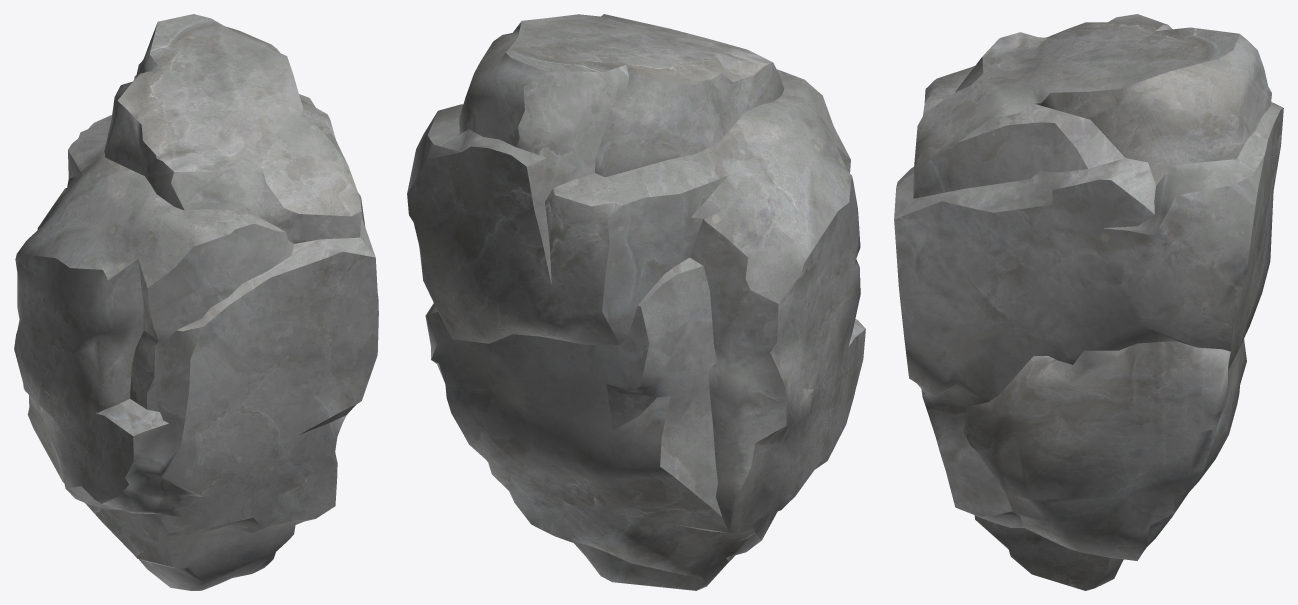
Rendered from SM_Com_Roc_41BS.fbx.
3 views of the same model, side by side, from view 1: azimuth 30°, elevation 25°; view 2: azimuth 150°, elevation 25°; view 3: azimuth 270°, elevation 25° (orthographic). The views are drawn at different scales.
Parts seen in each view (by area): view 1: SM_Com_Roc_41BS.mo; view 2: SM_Com_Roc_41BS.mo; view 3: SM_Com_Roc_41BS.mo.
Boxes of the visible parts, <box> form: SM_Com_Roc_41BS.mo: <box>14,14,378,590</box>; SM_Com_Roc_41BS.mo: <box>407,14,865,590</box>; SM_Com_Roc_41BS.mo: <box>894,14,1283,590</box>.
Bounding box in the file's own units: 6.91 × 10.44 × 6.71.
